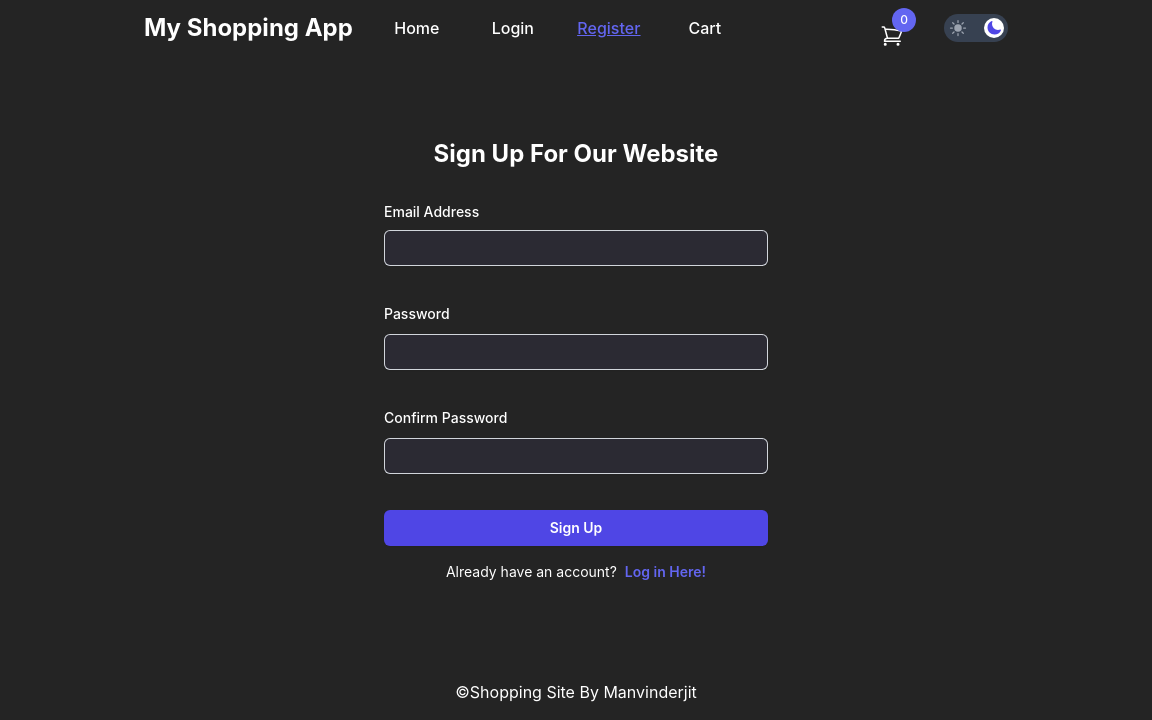
Test case: should render validation errors › should render 'Email can not be empty' error if userEmail is empty
Expected: the field labelled "Email Address" is empty, [384,230,768,266]
Expected: the element named "Error for User Email" is empty, [384,266,768,290]
Note: Action: Click Sign Up Button
Click the button "Sign Up" at (576, 528), box [384,510,768,546]
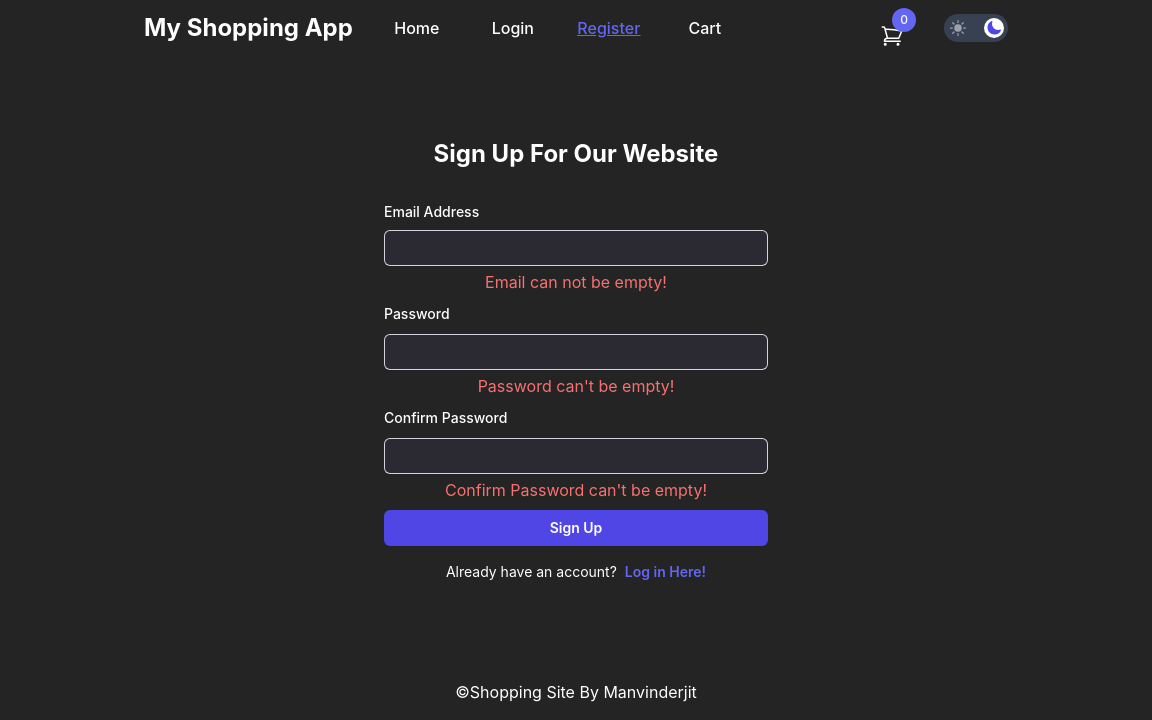
Expected: the field labelled "Email Address" is empty, [384,230,768,266]
Expected: the text named "Error for User Email" reads "Email can not be empty!", [485,272,667,292]
